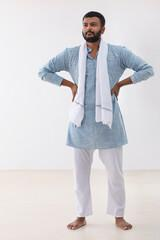Human: (43, 10, 131, 235)
